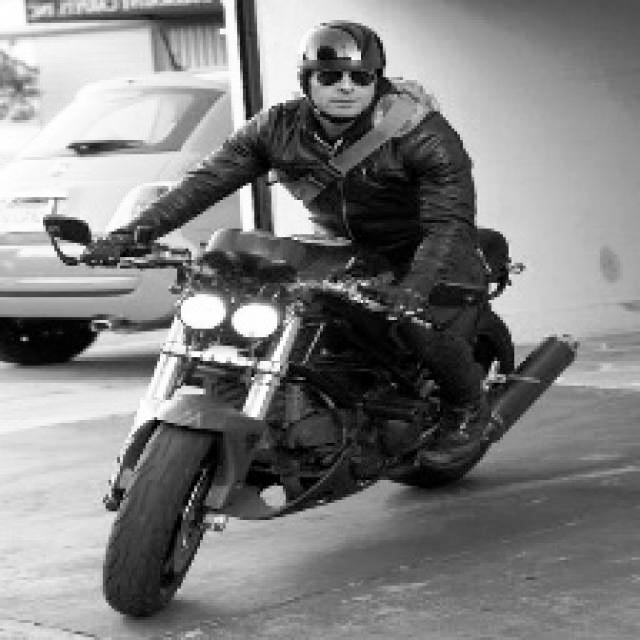Bike: (59, 228, 555, 606)
